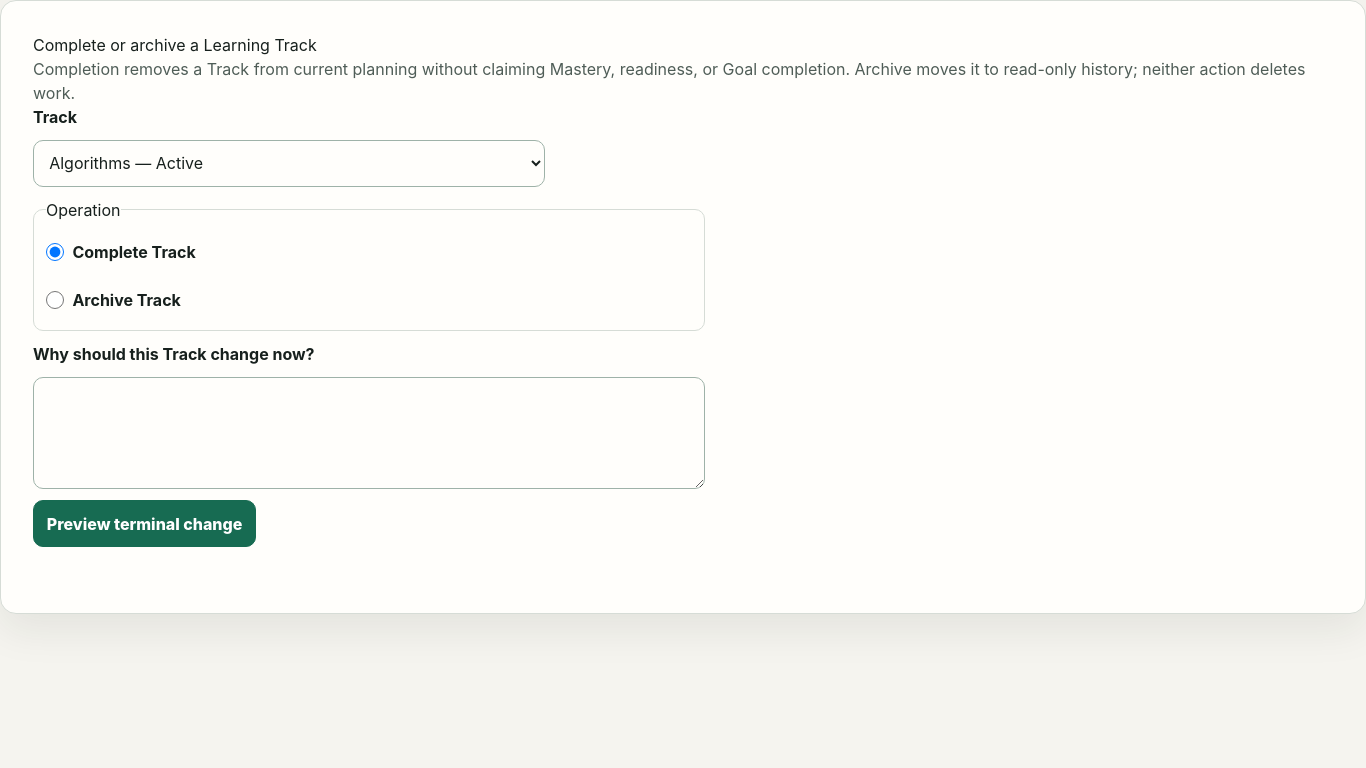
Test: LearningTrackTerminalLifecycle › derives operations from lifecycle and keeps archived history read-only
Step 1. Select "Completed history — Completed" in the dropdown labelled "Track" → (289, 163), box [33,140,545,187]
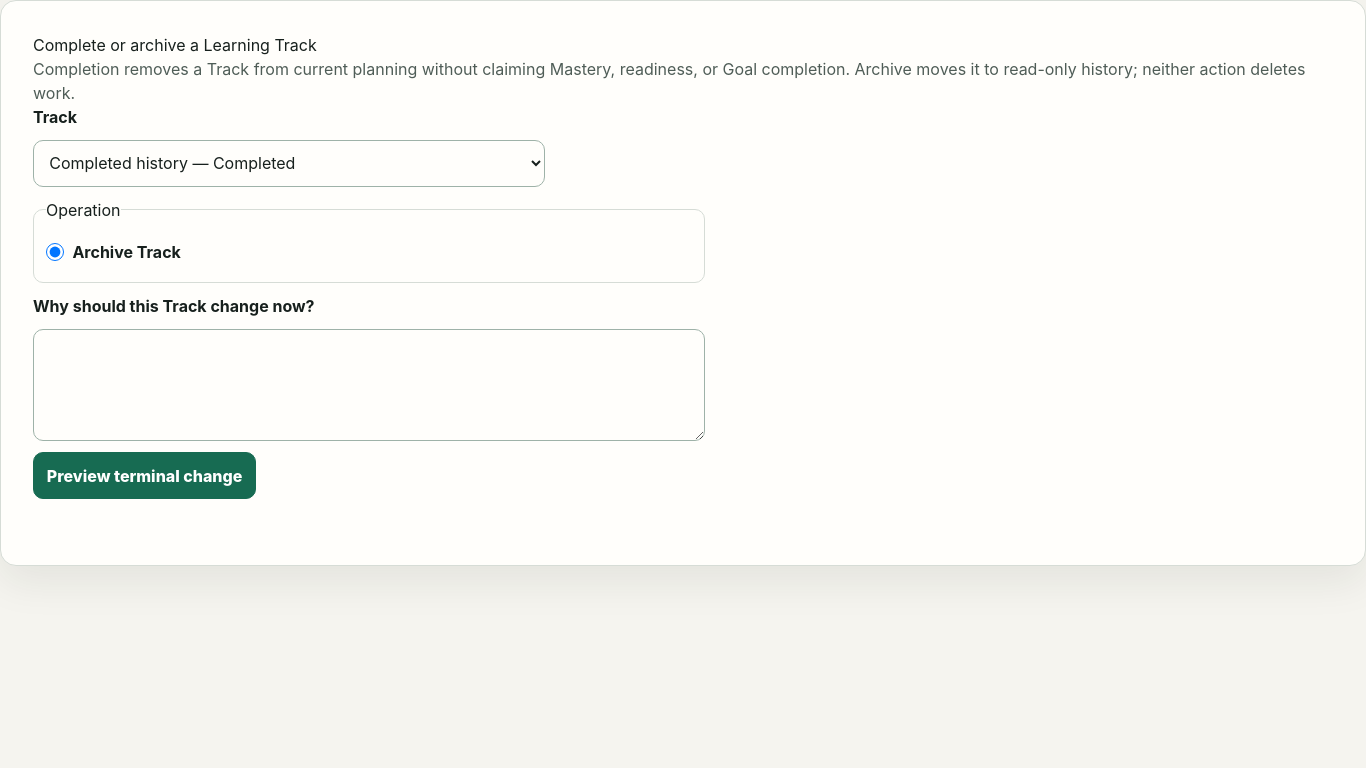
Expected: the radio button labelled "Archive Track" is checked, [46,242,64,261]
Expected: the label labelled "Complete Track" is gone
Step 2. Select "Archived history — Archived · read-only" in the dropdown labelled "Track" → (289, 163), box [33,140,545,187]
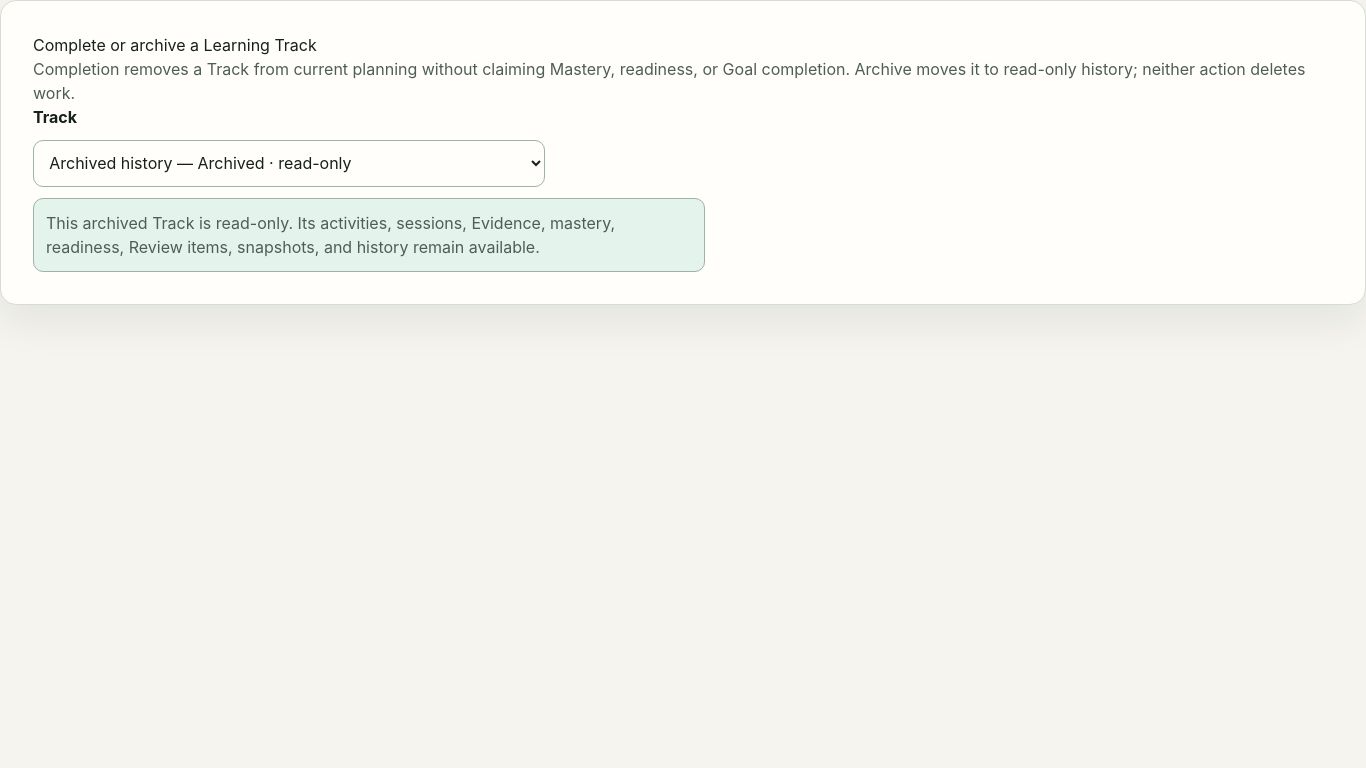
Expected: the label labelled "Archive Track" is gone
Expected: the text "archived Track is read-only" is shown, [46,213,615,257]
Expected: the button "Preview terminal change" is gone
